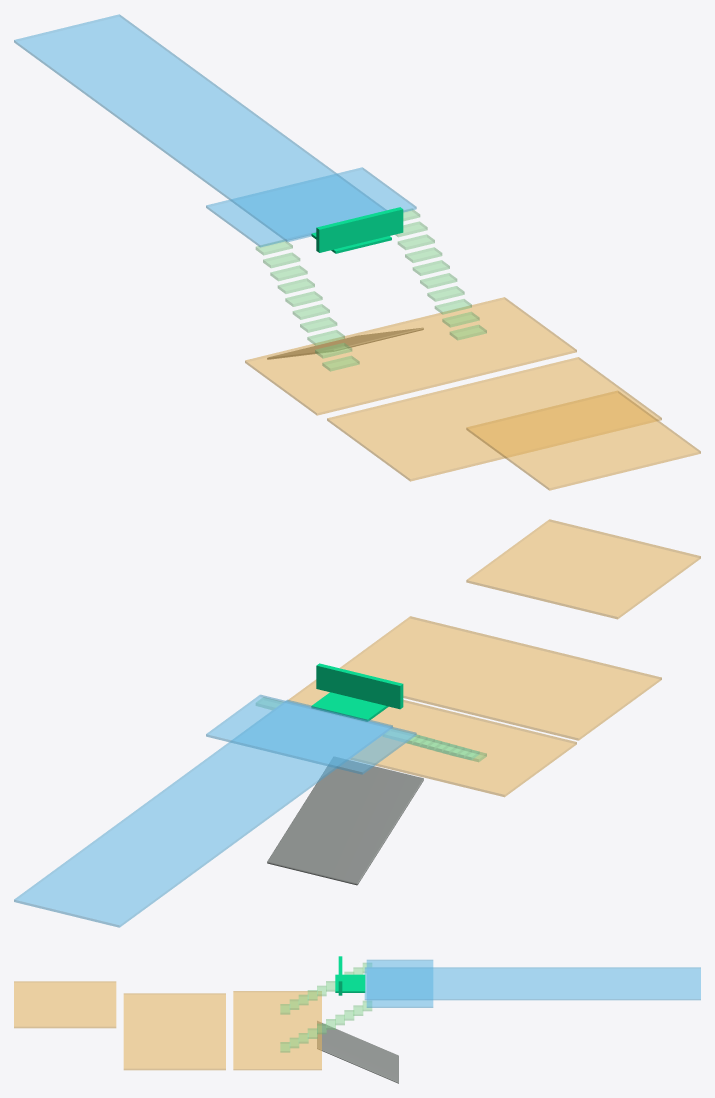
The model's file is prototype_shuttle_collision.glb.
The picture shows the model from 3 angles, top to bottom: view 1: azimuth 30°, elevation 25°; view 2: azimuth 150°, elevation 25°; view 3: azimuth 270°, elevation 25°; orthographic projection. The views are drawn at different scales.
Visible parts, largest first — view 1: COL_TEMP_CockpitVolumeFloor, COL_TEMP_CargoMidLowerFloor, COL_TEMP_CargoForwardLowerFloor, COL_TEMP_CargoAftLowerFloor, COL_TEMP_CockpitEntryLanding, SDP1_COL_CockpitEntryLandingRampDropGuardRail, COL_TEMP_ForwardBellyOpenRamp; view 2: COL_TEMP_CockpitVolumeFloor, COL_TEMP_CargoMidLowerFloor, COL_TEMP_CargoAftLowerFloor, COL_TEMP_CargoForwardLowerFloor, COL_TEMP_ForwardBellyOpenRamp, COL_TEMP_CockpitEntryLanding, SDP1_COL_CockpitEntryLandingRampDropGuardRail, SDP1_COL_CockpitEntryLandingAftExtension; view 3: COL_TEMP_CockpitVolumeFloor, COL_TEMP_CargoMidLowerFloor, COL_TEMP_CargoForwardLowerFloor, COL_TEMP_CargoAftLowerFloor, COL_TEMP_CockpitEntryLanding, COL_TEMP_ForwardBellyOpenRamp, SDP1_COL_CockpitEntryLandingAftExtension.
Part boxes in pixels (bbox=[...]): COL_TEMP_CockpitVolumeFloor: bbox=[14, 14, 386, 242]; COL_TEMP_CargoMidLowerFloor: bbox=[327, 357, 661, 481]; COL_TEMP_CargoForwardLowerFloor: bbox=[245, 297, 576, 415]; COL_TEMP_CargoAftLowerFloor: bbox=[466, 390, 700, 490]; COL_TEMP_CockpitEntryLanding: bbox=[206, 167, 416, 247]; SDP1_COL_CockpitEntryLandingRampDropGuardRail: bbox=[316, 207, 403, 252]; COL_TEMP_ForwardBellyOpenRamp: bbox=[267, 328, 423, 359]; COL_TEMP_CockpitVolumeFloor: bbox=[14, 699, 392, 927]; COL_TEMP_CargoMidLowerFloor: bbox=[340, 616, 661, 740]; COL_TEMP_CargoAftLowerFloor: bbox=[466, 519, 700, 619]; COL_TEMP_CargoForwardLowerFloor: bbox=[287, 680, 576, 797]; COL_TEMP_ForwardBellyOpenRamp: bbox=[267, 757, 423, 885]; COL_TEMP_CockpitEntryLanding: bbox=[206, 694, 416, 774]; SDP1_COL_CockpitEntryLandingRampDropGuardRail: bbox=[316, 663, 403, 709]; SDP1_COL_CockpitEntryLandingAftExtension: bbox=[311, 692, 388, 721]; COL_TEMP_CockpitVolumeFloor: bbox=[364, 967, 700, 1000]; COL_TEMP_CargoMidLowerFloor: bbox=[123, 993, 225, 1070]; COL_TEMP_CargoForwardLowerFloor: bbox=[233, 991, 321, 1070]; COL_TEMP_CargoAftLowerFloor: bbox=[14, 981, 116, 1028]; COL_TEMP_CockpitEntryLanding: bbox=[366, 959, 433, 1007]; COL_TEMP_ForwardBellyOpenRamp: bbox=[317, 1021, 398, 1083]; SDP1_COL_CockpitEntryLandingAftExtension: bbox=[335, 974, 365, 992].
Bounding box in the file's own units: 8.86 × 5.38 × 32.98.
